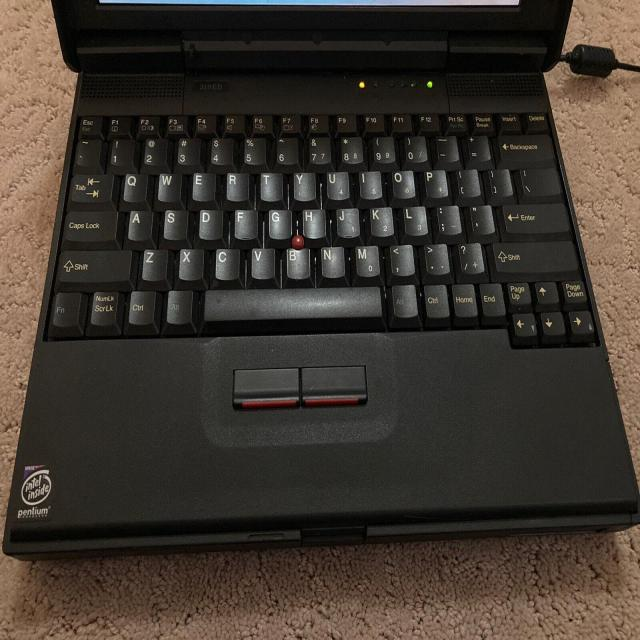keyboard: (16, 103, 624, 455)
